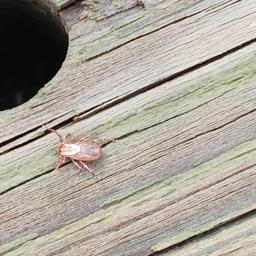Dermacentor variabilis: (43, 128, 104, 178)
